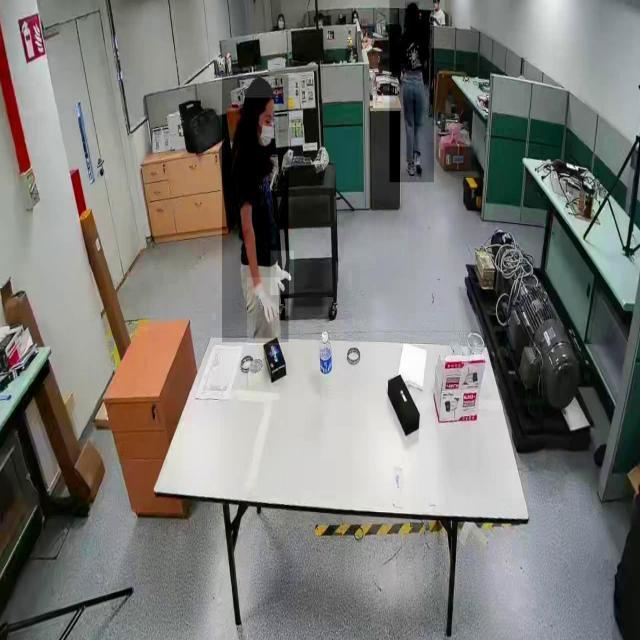gloves: (246, 278, 282, 346), (270, 250, 294, 296)
